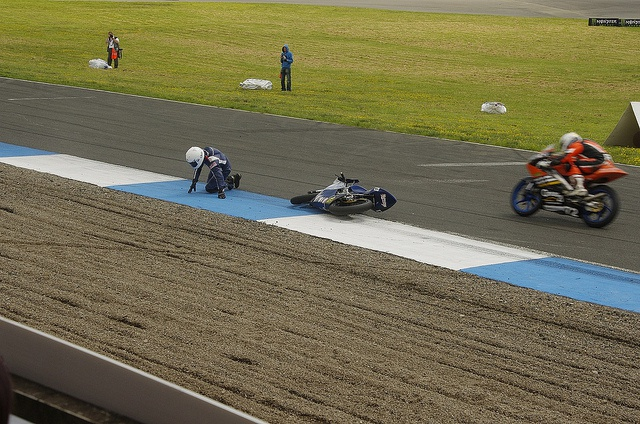non-vehicle: (508, 143, 629, 228), (289, 171, 397, 215)
